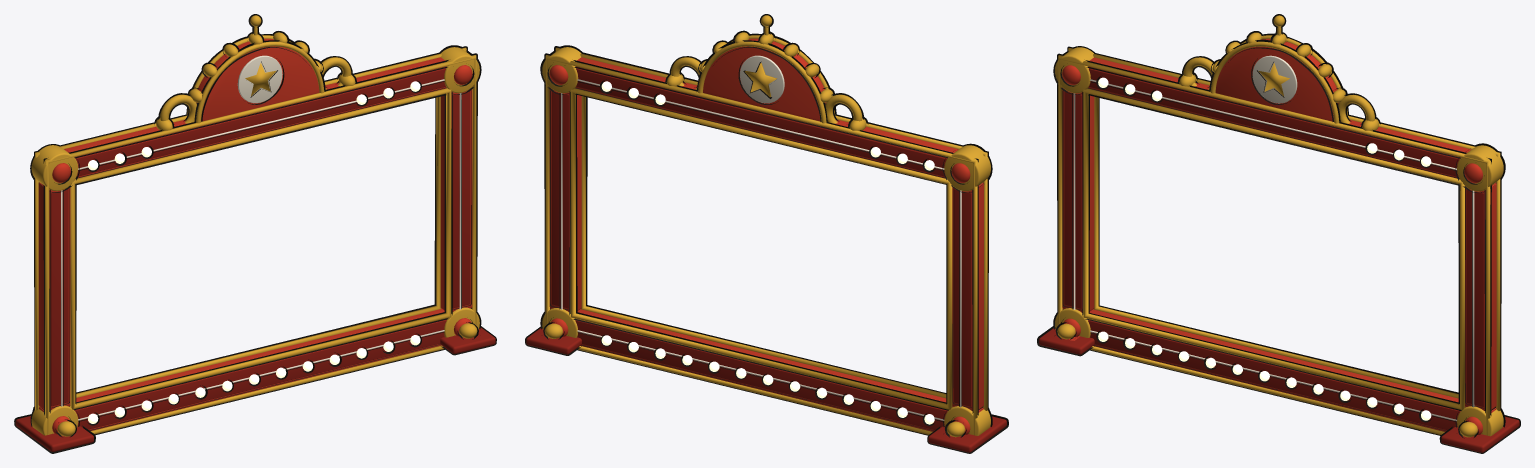
The model's file is screen.glb.
3 renders of one model, left to right at view 1: azimuth 30°, elevation 25°; view 2: azimuth 150°, elevation 25°; view 3: azimuth 330°, elevation 25°, orthographic.
Parts seen in each view (by area): view 1: Screen, Screen_outline; view 2: Screen, Screen_outline; view 3: Screen, Screen_outline.
Boxes of the visible parts, x1,y1,x2,y2 form: Screen: (15, 15, 495, 451); Screen_outline: (14, 14, 496, 453); Screen: (526, 15, 1006, 452); Screen_outline: (525, 14, 1008, 453); Screen: (1039, 15, 1519, 452); Screen_outline: (1037, 14, 1520, 453).
Bounding box in the file's own units: 16.66 × 13.44 × 2.52.
